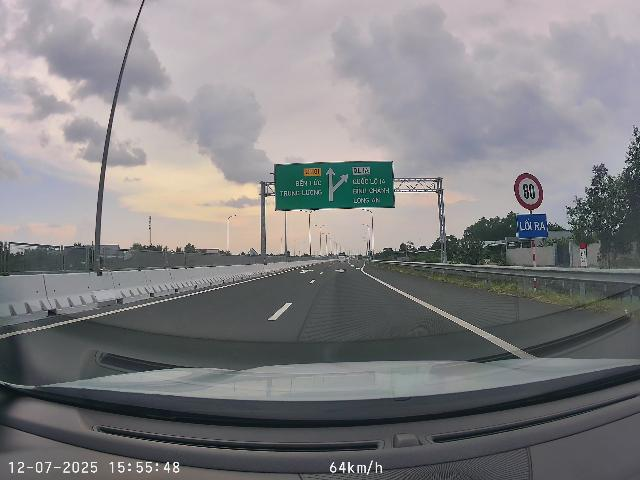127-toc-do-toi-da-80: (514, 173, 544, 210)
